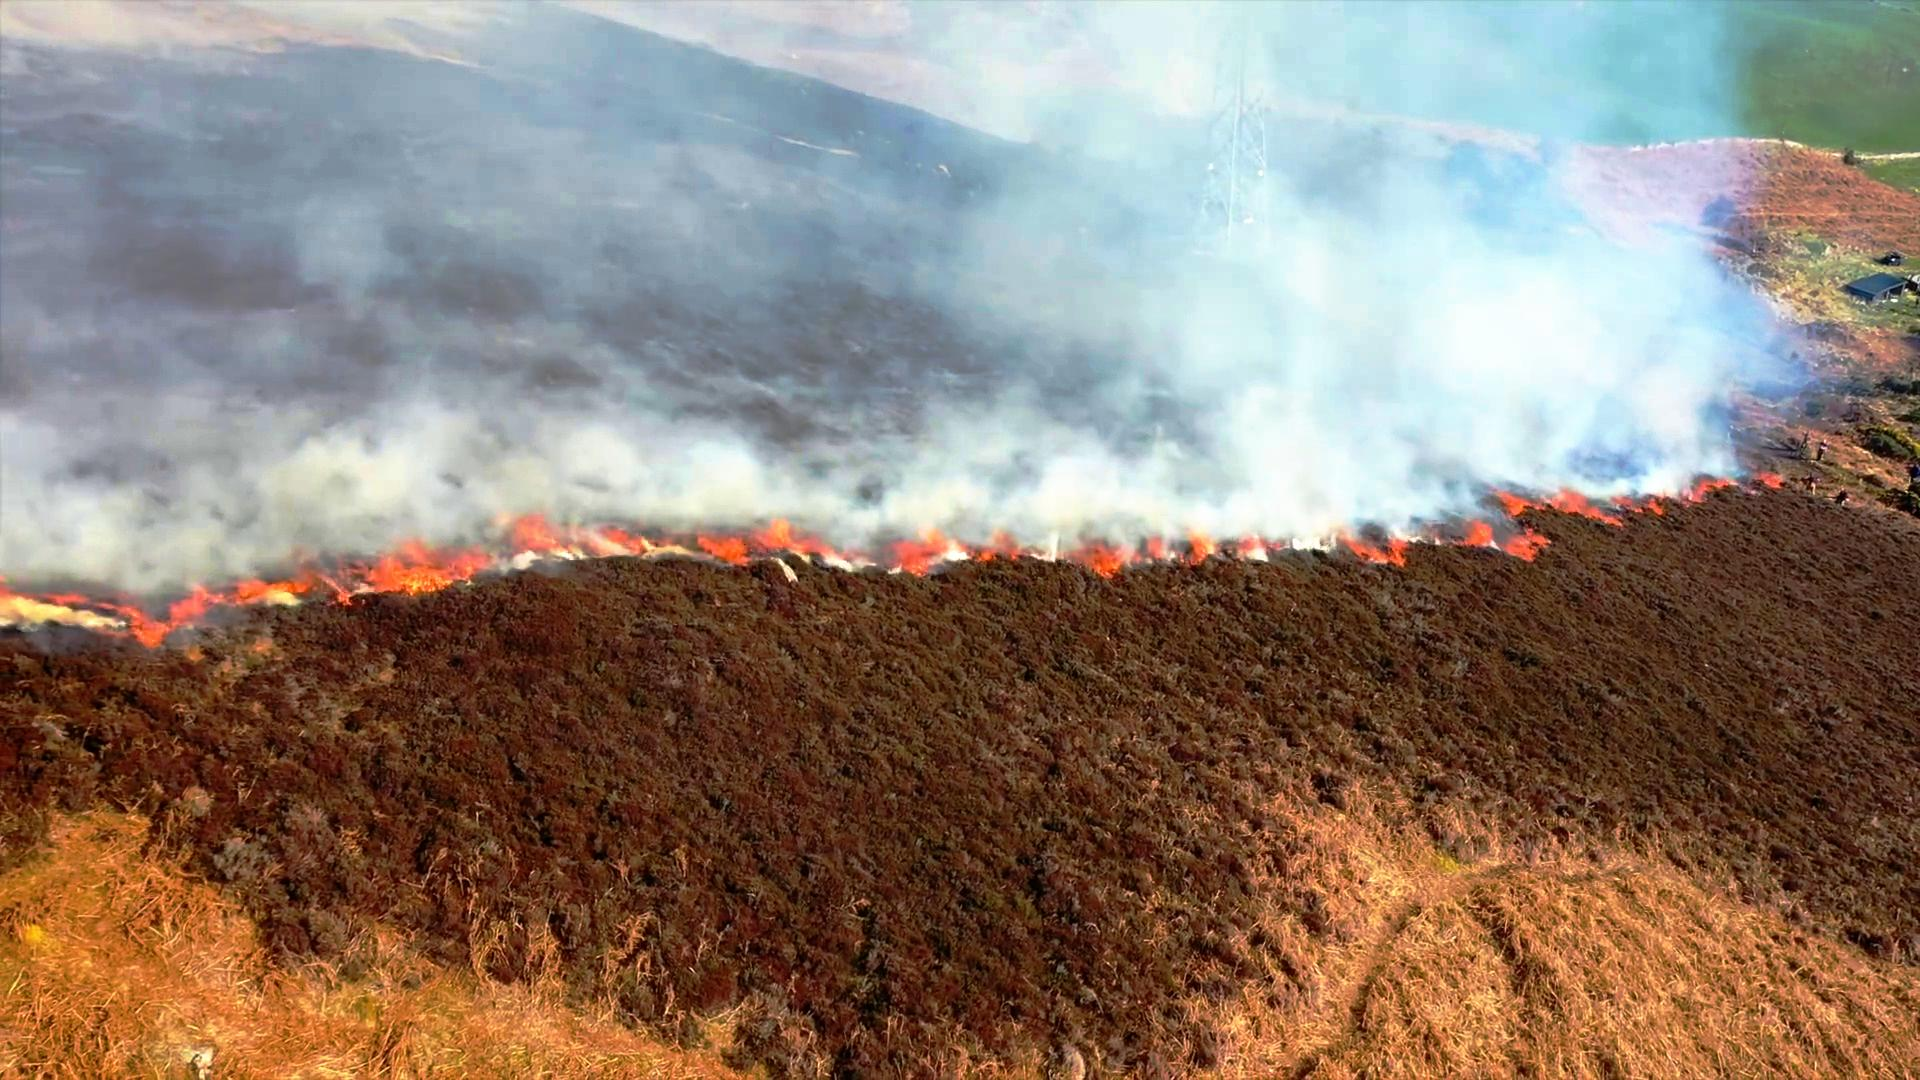fire: (137, 564, 309, 654), (760, 512, 969, 579), (351, 547, 496, 601), (696, 526, 760, 579)
smoke: (0, 3, 1824, 473), (945, 112, 1812, 462), (273, 426, 517, 538)
